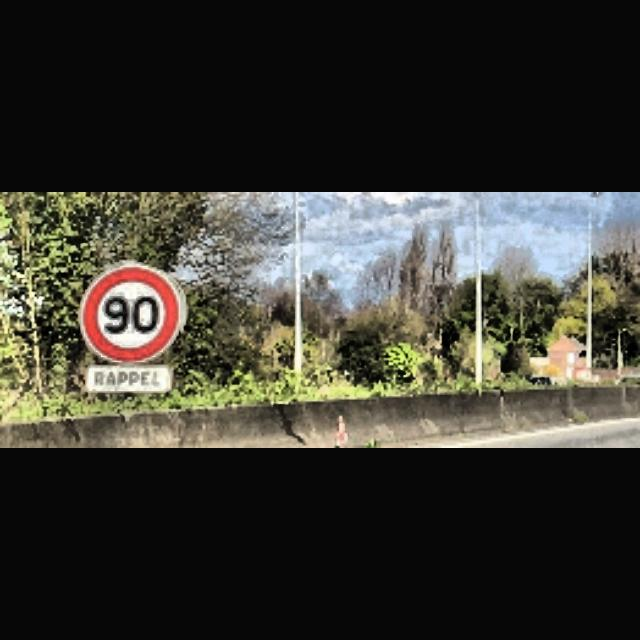speed_90: (80, 263, 186, 363)
